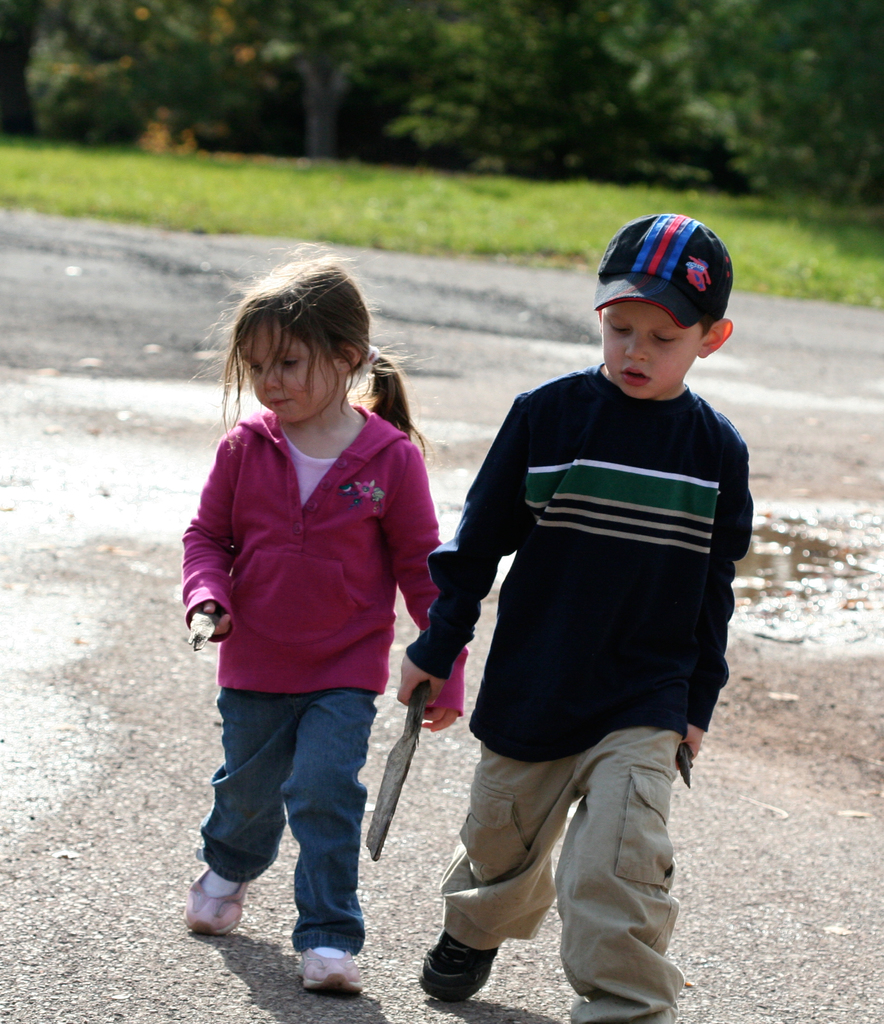Human-face: (236, 319, 339, 422), (603, 298, 701, 396)
